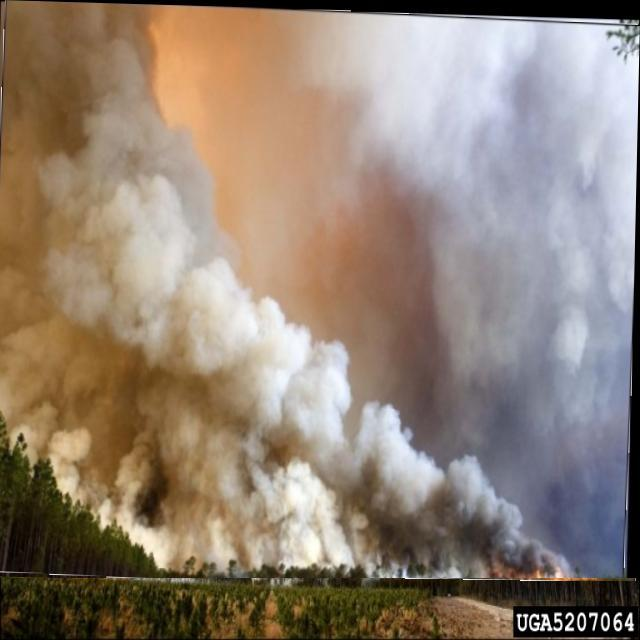smoke: (20, 439, 571, 575), (4, 260, 416, 439), (5, 5, 236, 261)
